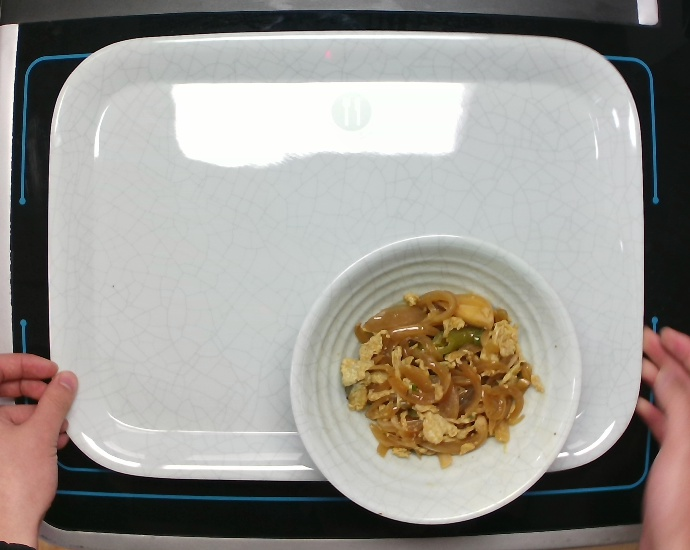JYsf-Xiao_Tang_Wan: (287, 231, 585, 527)
